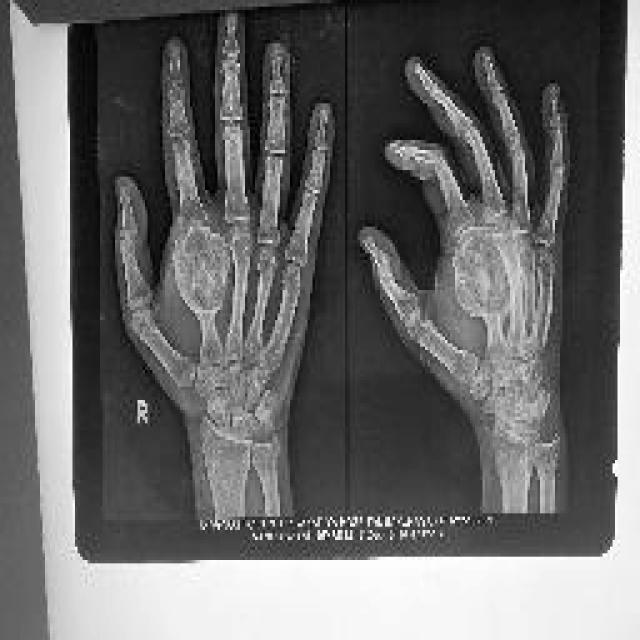bone-cancer: (172, 223, 230, 312), (452, 227, 509, 316)
